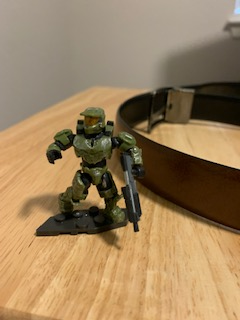chief: (46, 106, 144, 226)
rifle: (118, 153, 144, 234)
spartan: (44, 104, 142, 224)
